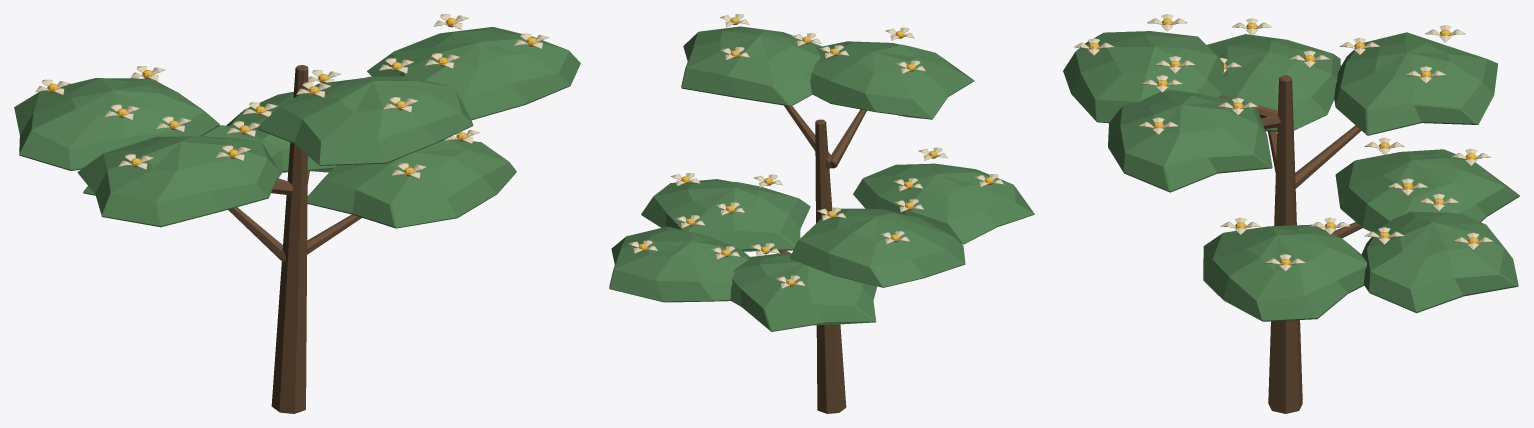
The model's file is b08_flowering_dogwood.glb.
The picture shows the model from 3 angles, left to right: view 1: azimuth 30°, elevation 25°; view 2: azimuth 150°, elevation 25°; view 3: azimuth 270°, elevation 25°; orthographic projection. The views are drawn at different scales.
Parts seen in each view (by area): view 1: b08_flowering_dogwood; view 2: b08_flowering_dogwood; view 3: b08_flowering_dogwood.
Boxes of the visible parts, x1,y1,x2,y2 form: b08_flowering_dogwood: (14,14,580,413); b08_flowering_dogwood: (609,14,1034,413); b08_flowering_dogwood: (1063,14,1519,413).
Size of the model in its own units: 3.47 by 2.77 by 3.09.
